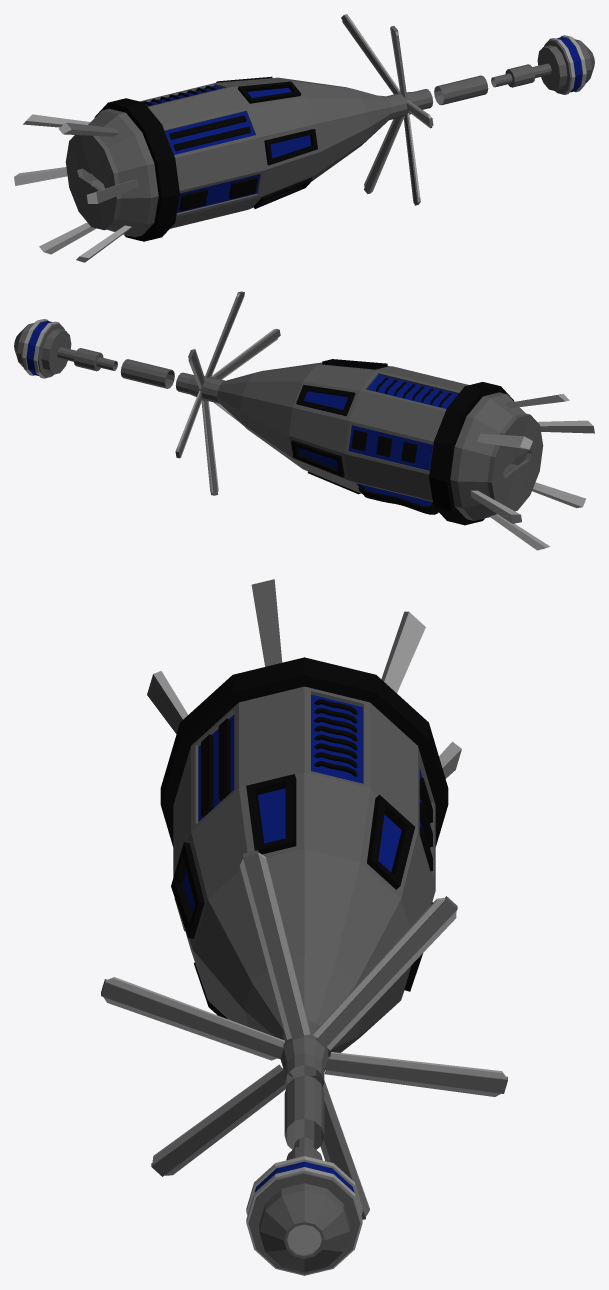
The model's file is space_station.glb.
3 views of the same model, one above another, from view 1: azimuth 30°, elevation 25°; view 2: azimuth 150°, elevation 25°; view 3: azimuth 270°, elevation 25° (orthographic). The views are drawn at different scales.
Visible parts, largest first — view 1: Station; view 2: Station; view 3: Station.
Boxes of the visible parts, <box> form: Station: <box>14,14,594,262</box>; Station: <box>14,291,594,550</box>; Station: <box>101,579,507,1275</box>.
Size of the model in its own units: 2728 by 893 by 893.
